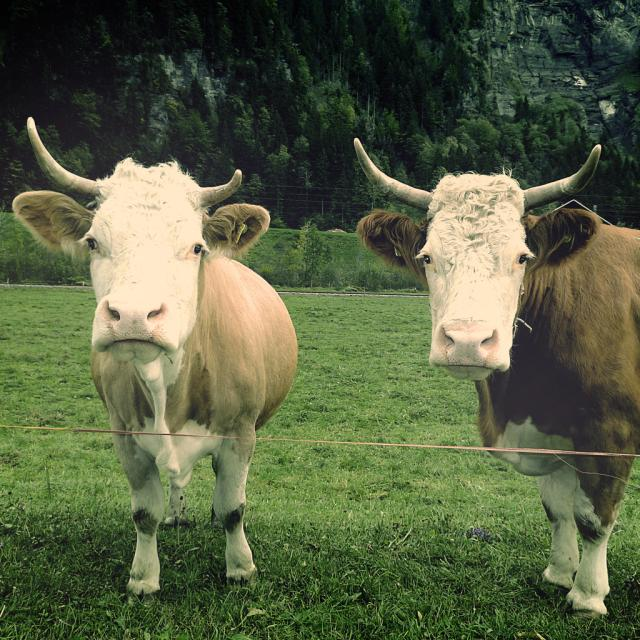Cattle: (10, 116, 299, 606), (354, 137, 640, 624)
